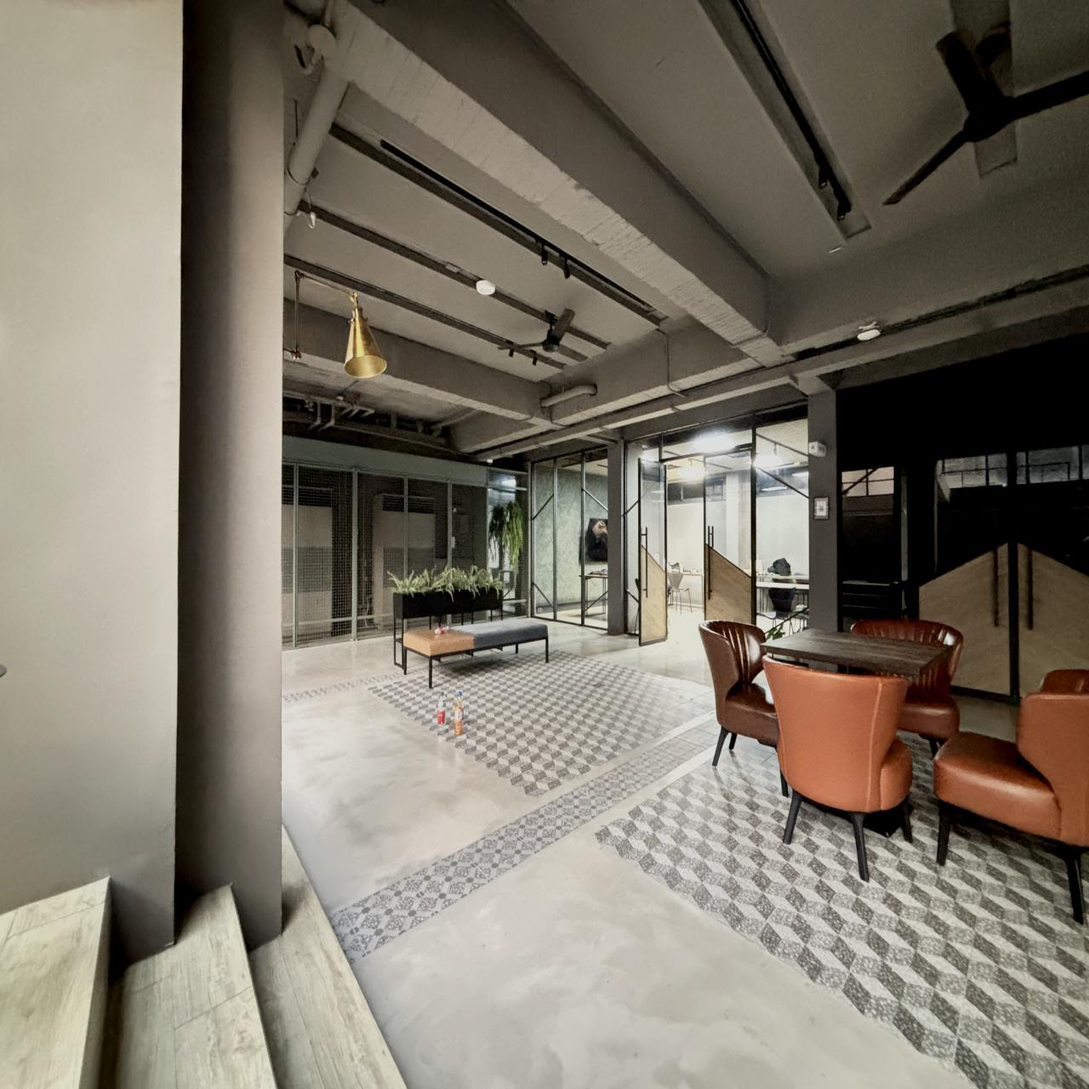plastic-bottle: (455, 700, 463, 735), (439, 691, 446, 725), (438, 702, 445, 735), (457, 691, 464, 720)
